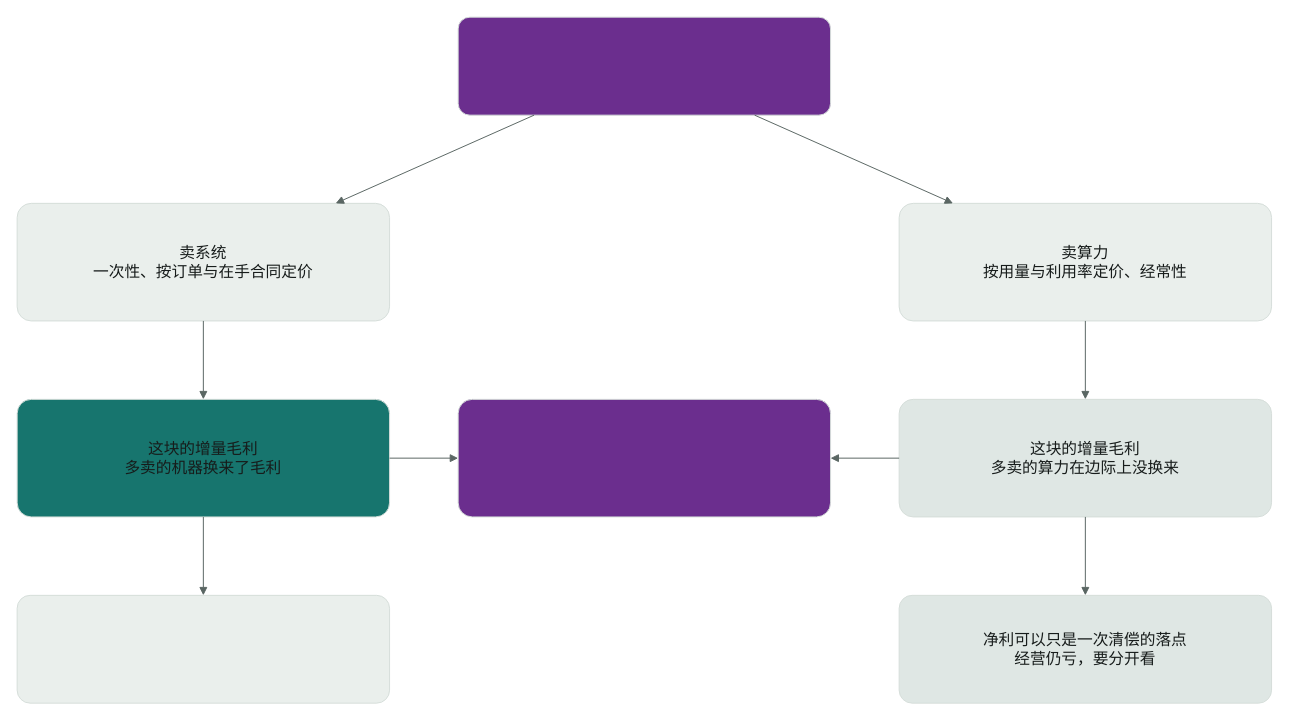
The diagram is 1289 pixels wide and 720 high, and some of its shapes have lost their labels. The centre of each missing label's shape, as x and y in pixels:
"收入增量拆成两块 申报文件自己给的分部口径" goes at (644,65).
"本地部署卖的是数据主权 官方原话，价格里含这一项" goes at (203,648).
"结构换了边 所以毛利率掉不是降价" goes at (644,457).
